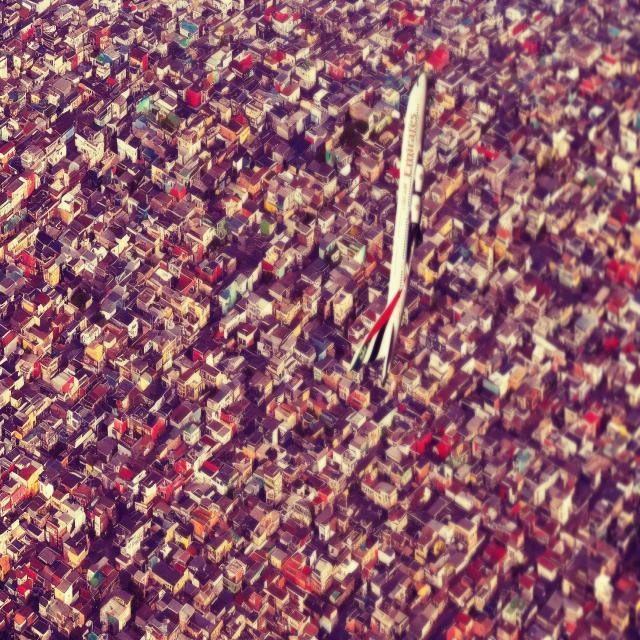airplane: (344, 70, 428, 388)
